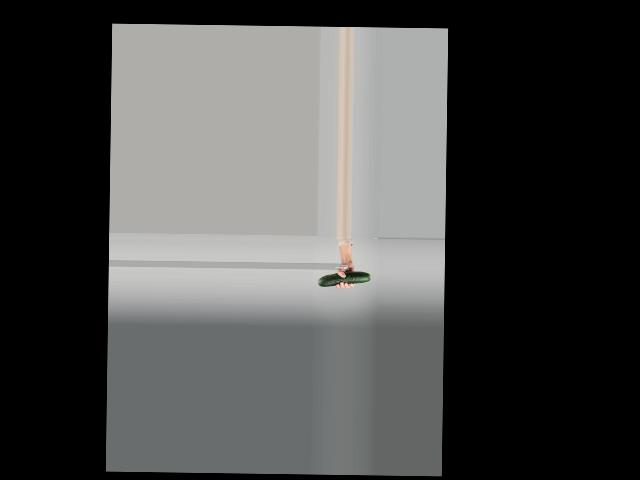cucumber: (317, 271, 369, 287)
